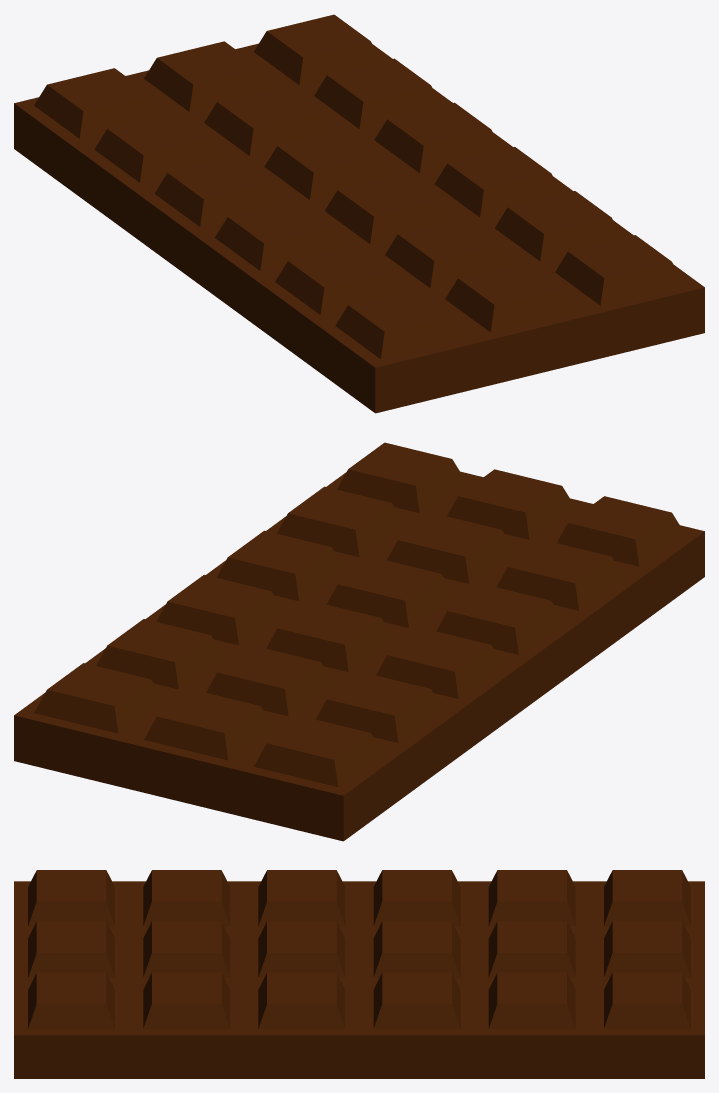
Rendered from Chocolate_01.fbx.
3 renders of one model, top to bottom at view 1: azimuth 30°, elevation 25°; view 2: azimuth 150°, elevation 25°; view 3: azimuth 270°, elevation 25°, orthographic. The views are drawn at different scales.
Visible parts, largest first — view 1: Chocolate_01; view 2: Chocolate_01; view 3: Chocolate_01.
Part boxes in pixels (x1,y1,x2,y2): Chocolate_01: (14,14,704,413); Chocolate_01: (14,442,704,841); Chocolate_01: (14,870,704,1078).
Size of the model in its own units: 45.84 by 9.02 by 87.07.
